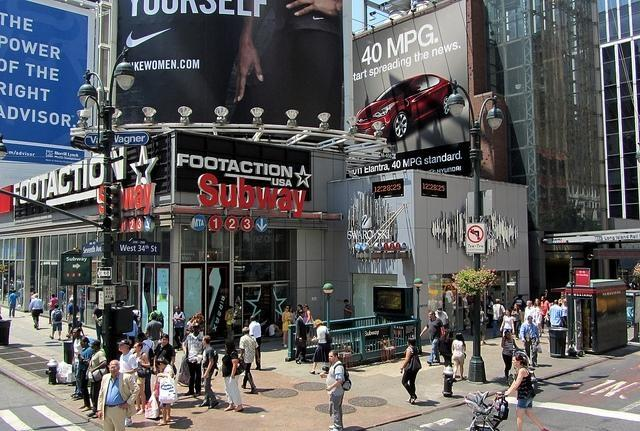bicycle: (466, 391, 510, 431)
